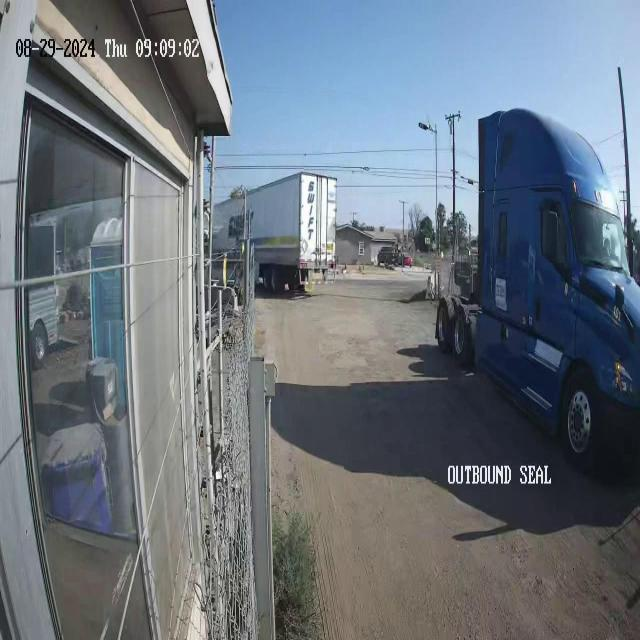BOBTAIL: (435, 106, 639, 474)
TRUCK_CONTAINER: (258, 174, 335, 268)
